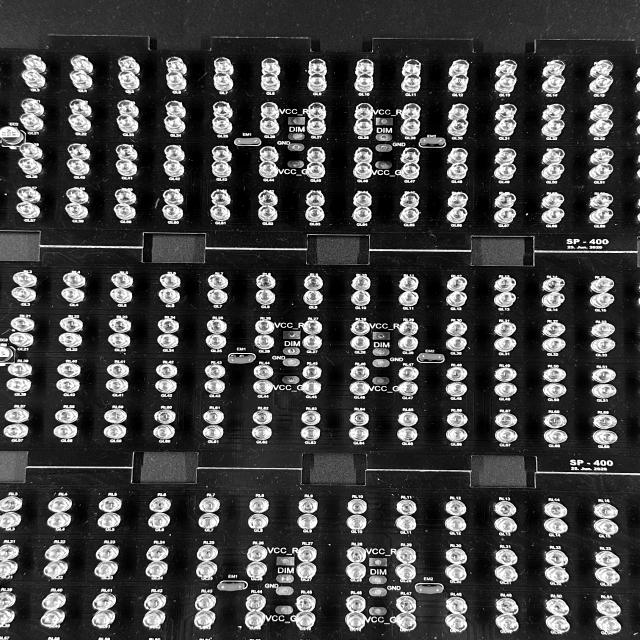Capacitor: (0, 126, 24, 145), (0, 346, 12, 362)
EMC filter: (227, 353, 255, 365), (415, 584, 443, 594), (228, 354, 254, 364), (420, 137, 446, 147), (217, 582, 245, 591), (418, 353, 444, 362), (234, 138, 260, 146)
led: (596, 598, 622, 618), (22, 68, 48, 88), (588, 74, 614, 94), (44, 544, 72, 562), (589, 162, 614, 182), (19, 113, 45, 132), (17, 156, 44, 174), (541, 118, 565, 138), (542, 103, 566, 123), (70, 55, 94, 75), (494, 74, 518, 94), (593, 567, 621, 584), (42, 560, 68, 578), (41, 592, 67, 610), (146, 512, 172, 530), (543, 548, 569, 566), (544, 615, 570, 633), (593, 502, 619, 520), (594, 518, 620, 536), (594, 550, 620, 568), (596, 616, 622, 634), (92, 610, 116, 629), (142, 610, 166, 629), (546, 565, 570, 584), (67, 157, 91, 176), (70, 70, 94, 89), (92, 592, 117, 610), (495, 596, 520, 614), (589, 191, 614, 209), (17, 186, 42, 204), (589, 119, 614, 137), (96, 512, 122, 529), (92, 560, 118, 577), (494, 614, 520, 631), (542, 517, 568, 534), (592, 413, 618, 430), (589, 292, 615, 309), (64, 202, 90, 219), (212, 115, 234, 135), (118, 99, 140, 119), (24, 54, 46, 74), (166, 55, 188, 75), (546, 597, 569, 616), (494, 147, 517, 166), (446, 118, 469, 137), (163, 115, 186, 134), (495, 59, 518, 78), (542, 59, 565, 78), (96, 544, 120, 562), (143, 593, 167, 611), (494, 564, 518, 582), (590, 383, 617, 399), (542, 162, 566, 180), (590, 104, 614, 122), (493, 104, 517, 122), (68, 114, 92, 132), (540, 207, 565, 224), (70, 99, 92, 118), (21, 98, 43, 117), (542, 74, 564, 93), (40, 610, 66, 626), (592, 430, 618, 446), (8, 332, 34, 348), (11, 286, 37, 302), (60, 287, 86, 303), (590, 278, 616, 294), (588, 208, 614, 224), (149, 496, 172, 514), (146, 544, 169, 562), (194, 593, 217, 611), (193, 610, 216, 628), (245, 560, 268, 578), (445, 596, 468, 614), (115, 143, 138, 161), (494, 163, 517, 181), (116, 115, 139, 133), (47, 512, 71, 529), (444, 515, 468, 532), (67, 143, 91, 160), (590, 148, 614, 165), (493, 516, 518, 532), (4, 423, 29, 439), (443, 336, 468, 352), (107, 333, 132, 349), (58, 332, 83, 348), (13, 271, 38, 287), (16, 202, 41, 218), (259, 116, 280, 135), (166, 71, 187, 90), (213, 72, 234, 91), (448, 74, 469, 93), (197, 544, 219, 562), (196, 560, 218, 578), (296, 512, 318, 530), (163, 188, 185, 206), (115, 188, 137, 206), (164, 144, 186, 162), (494, 118, 516, 136), (447, 103, 469, 121), (118, 71, 140, 89), (118, 56, 140, 74), (448, 59, 470, 77), (590, 60, 612, 78), (445, 547, 468, 564), (205, 333, 228, 350), (66, 188, 89, 205), (20, 143, 43, 160), (115, 159, 138, 176), (542, 148, 565, 165), (542, 413, 568, 428), (590, 368, 616, 383), (492, 337, 518, 352), (145, 562, 169, 578), (197, 497, 221, 513), (444, 564, 468, 580), (544, 502, 568, 518), (544, 428, 568, 444), (494, 412, 518, 428), (494, 428, 518, 444), (152, 424, 176, 440), (542, 337, 566, 353), (493, 321, 517, 337), (156, 318, 180, 334), (108, 317, 132, 333), (110, 272, 134, 288), (541, 292, 565, 308), (346, 594, 366, 613), (306, 161, 326, 180), (307, 101, 327, 120), (402, 74, 422, 93), (402, 59, 422, 78), (245, 611, 266, 629), (296, 561, 317, 579), (295, 594, 316, 612), (345, 612, 366, 630), (396, 612, 417, 630), (164, 160, 185, 178), (353, 146, 374, 164), (399, 162, 420, 180), (400, 147, 421, 165), (400, 118, 421, 136), (400, 103, 421, 121), (4, 408, 29, 423), (542, 368, 567, 383), (591, 323, 616, 338), (59, 317, 84, 332), (62, 272, 87, 287), (0, 511, 22, 528), (396, 499, 418, 516), (395, 563, 417, 580), (445, 499, 467, 516), (496, 549, 518, 566), (494, 207, 516, 224), (495, 192, 517, 209), (398, 207, 420, 224), (304, 205, 326, 222), (163, 204, 185, 221), (114, 203, 136, 220), (260, 58, 282, 75), (0, 496, 23, 512), (197, 513, 220, 529), (244, 594, 267, 610), (445, 614, 468, 630), (493, 500, 516, 516), (445, 366, 468, 382), (541, 193, 564, 209), (354, 117, 373, 136), (48, 497, 72, 512), (98, 497, 122, 512), (396, 595, 416, 613), (104, 409, 128, 424), (103, 424, 127, 439), (55, 408, 79, 423), (54, 423, 78, 438), (56, 378, 80, 393), (105, 378, 129, 393), (494, 382, 518, 397), (591, 338, 615, 353), (10, 317, 34, 332), (542, 277, 566, 292), (258, 204, 278, 222), (212, 160, 232, 178), (212, 145, 232, 163), (259, 161, 279, 179), (448, 147, 468, 165), (354, 103, 374, 121), (306, 117, 326, 135), (261, 73, 281, 91), (354, 74, 374, 92), (296, 612, 317, 629), (347, 498, 368, 515), (396, 547, 417, 564), (398, 291, 419, 308), (400, 191, 421, 208), (258, 190, 279, 207), (446, 162, 467, 179), (212, 101, 233, 118), (248, 497, 270, 513), (247, 514, 269, 530), (446, 412, 468, 428), (446, 427, 468, 443), (300, 410, 322, 426), (251, 424, 273, 440), (159, 273, 181, 289), (158, 288, 180, 304), (207, 274, 229, 290), (302, 290, 324, 306), (495, 276, 517, 292), (494, 292, 516, 308), (209, 204, 231, 220), (210, 190, 232, 206), (8, 363, 33, 377), (7, 378, 32, 392), (109, 288, 134, 302), (154, 409, 177, 424), (107, 363, 130, 378), (445, 382, 468, 397), (206, 289, 229, 304), (354, 161, 373, 179), (308, 74, 327, 92), (309, 58, 327, 77), (346, 546, 366, 563), (448, 192, 468, 209), (305, 190, 325, 207), (260, 146, 280, 163), (166, 100, 186, 117), (247, 546, 268, 562), (298, 498, 319, 514), (346, 563, 367, 579), (397, 426, 418, 442), (203, 424, 224, 440), (57, 363, 81, 377), (398, 365, 419, 381), (542, 384, 566, 398), (542, 323, 566, 337), (446, 321, 467, 337), (350, 320, 371, 336), (156, 334, 180, 348), (350, 290, 371, 306), (446, 276, 467, 292), (446, 291, 467, 307), (447, 207, 468, 223), (352, 192, 373, 208), (213, 58, 234, 74), (204, 364, 226, 379), (495, 367, 517, 382), (397, 336, 419, 351), (356, 59, 374, 77), (0, 560, 19, 577), (0, 591, 17, 610), (307, 146, 326, 163), (297, 546, 317, 562), (396, 515, 416, 531), (253, 410, 273, 426), (207, 318, 227, 334), (256, 274, 276, 290), (351, 275, 371, 291), (352, 206, 372, 222), (252, 380, 273, 395), (302, 365, 323, 380), (350, 365, 371, 380), (348, 381, 369, 396), (398, 321, 419, 336), (302, 320, 323, 335), (254, 335, 275, 350), (255, 289, 276, 304), (303, 275, 324, 290), (399, 276, 420, 291), (156, 364, 178, 378), (154, 379, 176, 393), (397, 382, 419, 396), (254, 320, 276, 334), (261, 102, 280, 118), (0, 608, 15, 628), (347, 515, 367, 530), (349, 411, 369, 426), (349, 426, 369, 441), (301, 426, 321, 441), (302, 380, 322, 395), (304, 335, 324, 350), (203, 410, 224, 424), (0, 544, 18, 560), (254, 365, 273, 380), (398, 412, 418, 426), (350, 336, 370, 350), (205, 380, 226, 393)
